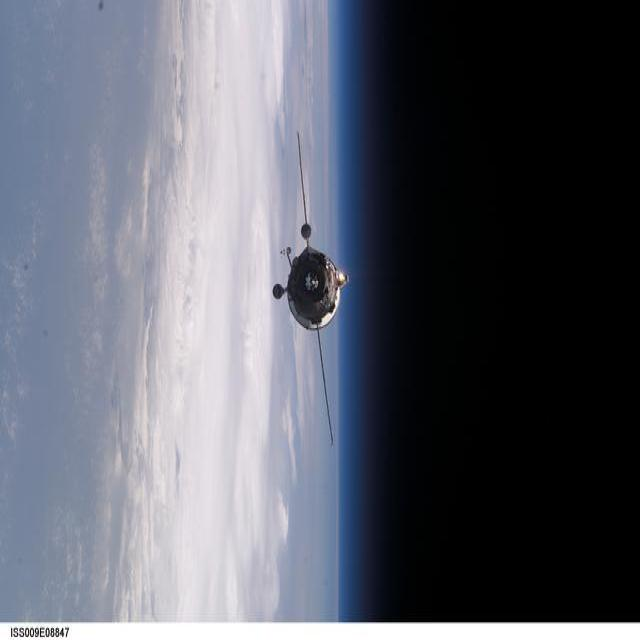satellite: (272, 132, 348, 444)
